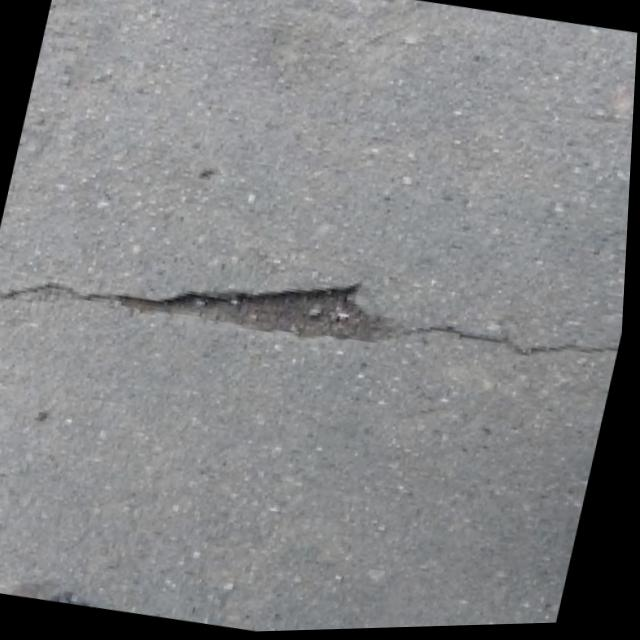Crack: (0, 194, 631, 436)
